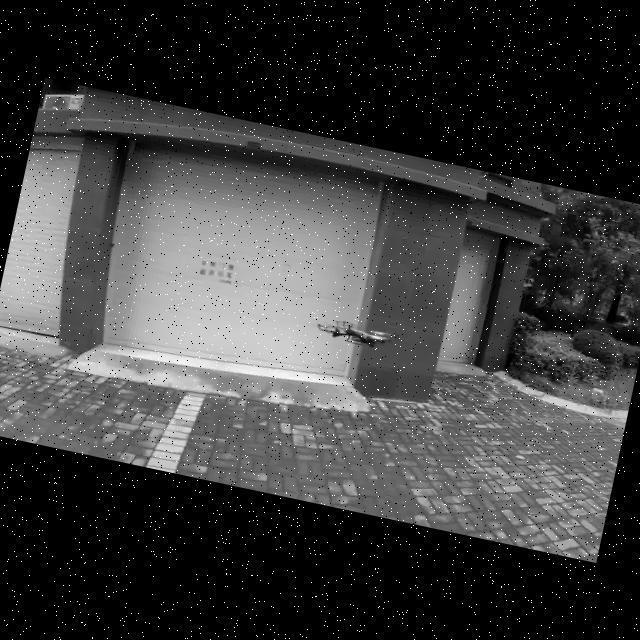Drons: (316, 306, 398, 358)
